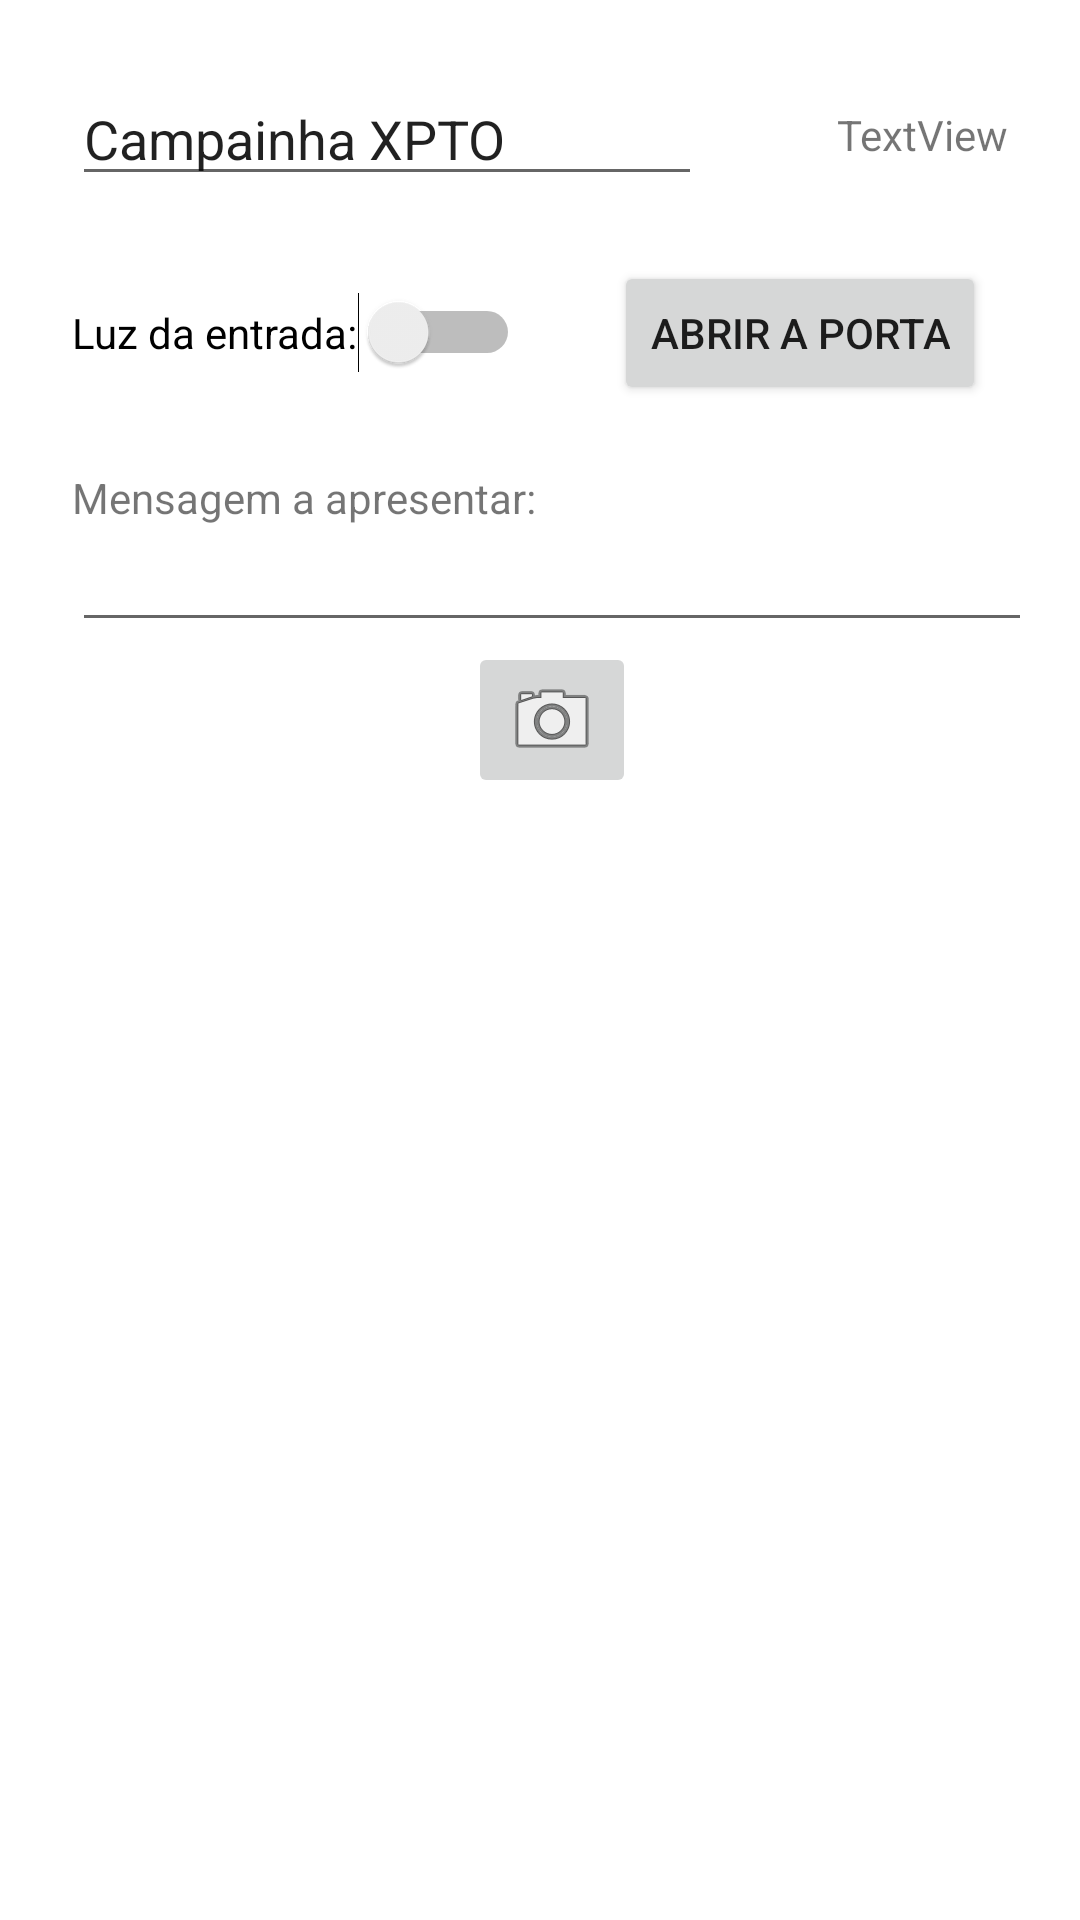

Where to tap for icons on this 1080×1920 app screen, as (x=x, y=y):
camera: (x=552, y=720)
